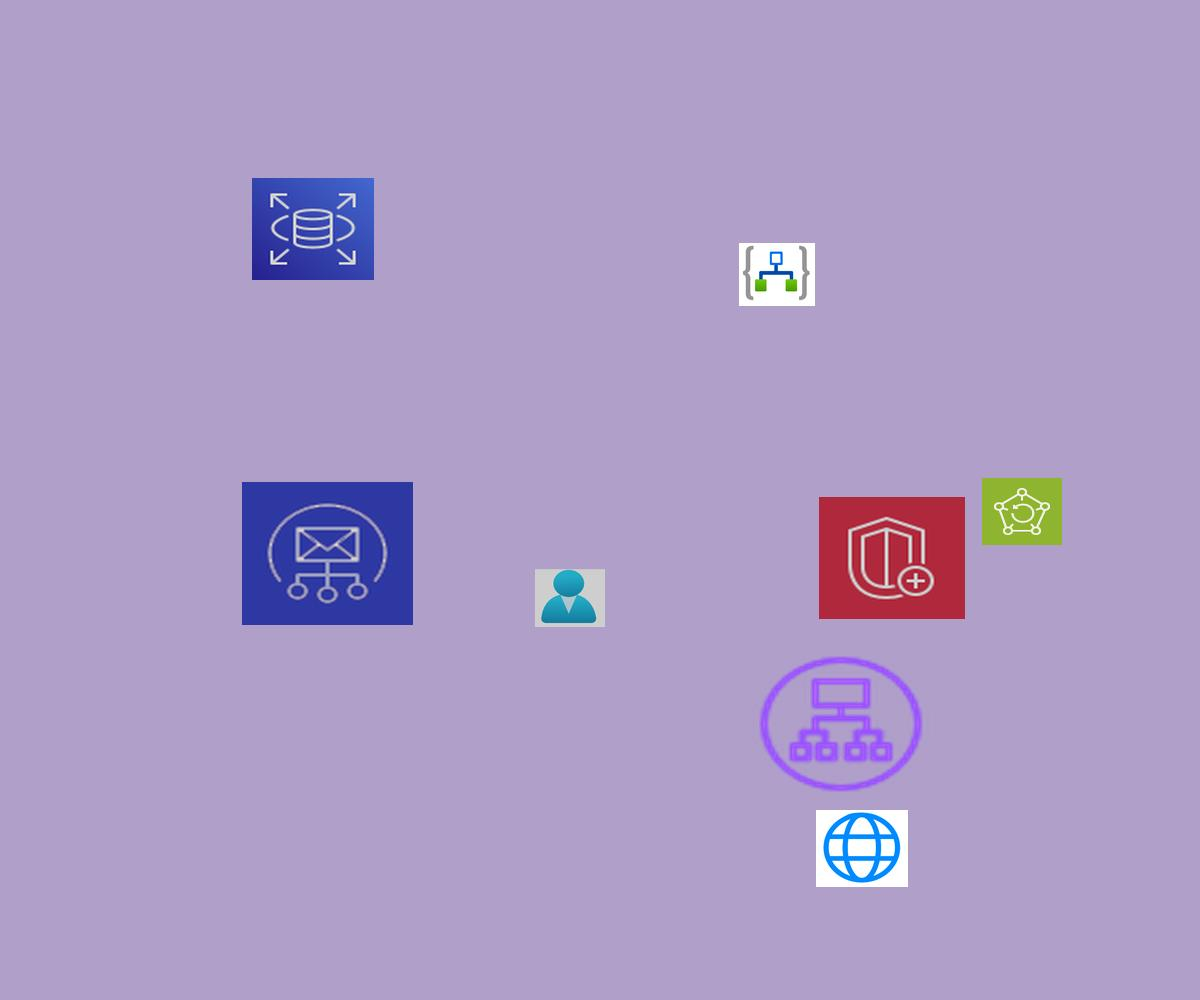AWS-Backup: (982, 478, 1062, 545)
AWS-RDS: (252, 178, 374, 280)
AWS-Res_Elastic-Load-Balancing_Application-Load-Balancer: (753, 651, 929, 797)
AWS-Shield: (819, 497, 965, 619)
AWS-Simple-Email-Service: (242, 482, 413, 625)
Azure_http: (816, 810, 908, 887)
Azure_integration-204-Logic-Apps: (739, 243, 815, 306)
Azure_users: (535, 569, 605, 627)
